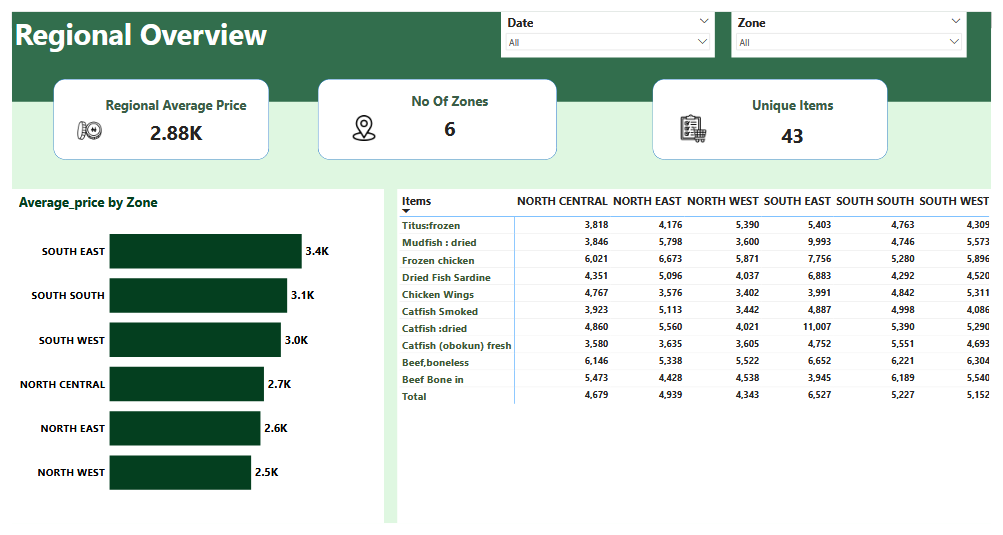

Layout of this report page (visuals, bound fields, positions):
{"tool":"powerbi","page":{"name":"REGIONAL OVERVIEW","canvas":[2010,1050],"ordinal":2},"visuals":[{"type":"textbox","box":[0,0,2010.6,185.1],"z":0},{"type":"shape","box":[0,363.8,763.8,687.2],"z":0,"group":"g1"},{"type":"clusteredBarChart","title":" Average_price by Zone","fields":{"Category":["ZONE ITEM.Zone"],"Y":["ZONE ITEM.Regional Average Price"]},"box":[8.7,370.5,755.1,654.7],"z":1000,"group":"g1"},{"type":"shape","box":[85.1,138.3,442.6,166],"z":1000},{"type":"shape","box":[627.7,138.3,491.5,166],"z":2000},{"type":"group","id":"g1","title":"Group 1","box":[0,363.8,763.8,687.2],"z":3000},{"type":"card","title":"No Of Zones","fields":{"Values":["ZONE ITEM.Number of Zones"]},"box":[723.4,163.8,351.1,112.8],"z":4000},{"type":"image","box":[102.1,212.8,114.9,61.7],"z":5000},{"type":"shape","box":[1314.9,138.3,483,166],"z":7000},{"type":"card","title":"Unique Items","fields":{"Values":["ZONE ITEM.Unique Items"]},"box":[1442.6,172.3,319.1,127.7],"z":8000},{"type":"slicer","fields":{"Values":["ZONE ITEM.Zone"]},"box":[1476.6,0,483,93.6],"z":9000},{"type":"slicer","fields":{"Values":["ZONE ITEM.Date"]},"box":[1004.3,0,438.3,93.6],"z":10000},{"type":"card","title":"Regional Average Price","fields":{"Values":["ZONE ITEM.Regional Average Price"]},"box":[144.7,172.3,383,112.8],"z":11000},{"type":"pivotTable","fields":{"Rows":["ZONE ITEM.Items"],"Columns":["ZONE ITEM.Zone"],"Values":["Avg(ZONE ITEM.Average_price)"]},"box":[791.5,363.8,1219.1,719.1],"z":12000},{"type":"image","box":[691.5,204.3,63.8,70.2],"z":13000},{"type":"image","box":[1355.3,204.3,87.2,70.2],"z":14000}]}

Visuals, with their boxes in screenshot pixels (x1, y1, x2, y2), scaled from the page's 2010x1050 canvas onto the 1003x535 screenshot:
textbox: <box>0,0,1002,94</box>
shape: <box>0,185,381,534</box>
" Average_price by Zone" clusteredBarChart: <box>4,189,381,522</box>
shape: <box>42,70,263,155</box>
shape: <box>313,70,558,155</box>
"Group 1" group: <box>0,185,381,534</box>
"No Of Zones" card: <box>361,83,536,141</box>
image: <box>51,108,108,140</box>
shape: <box>656,70,897,155</box>
"Unique Items" card: <box>720,88,879,153</box>
slicer - ZONE ITEM.Zone: <box>737,0,978,48</box>
slicer - ZONE ITEM.Date: <box>501,0,720,48</box>
"Regional Average Price" card: <box>72,88,263,145</box>
pivotTable - ZONE ITEM.Items x ZONE ITEM.Zone: <box>395,185,1002,534</box>
image: <box>345,104,377,140</box>
image: <box>676,104,720,140</box>
